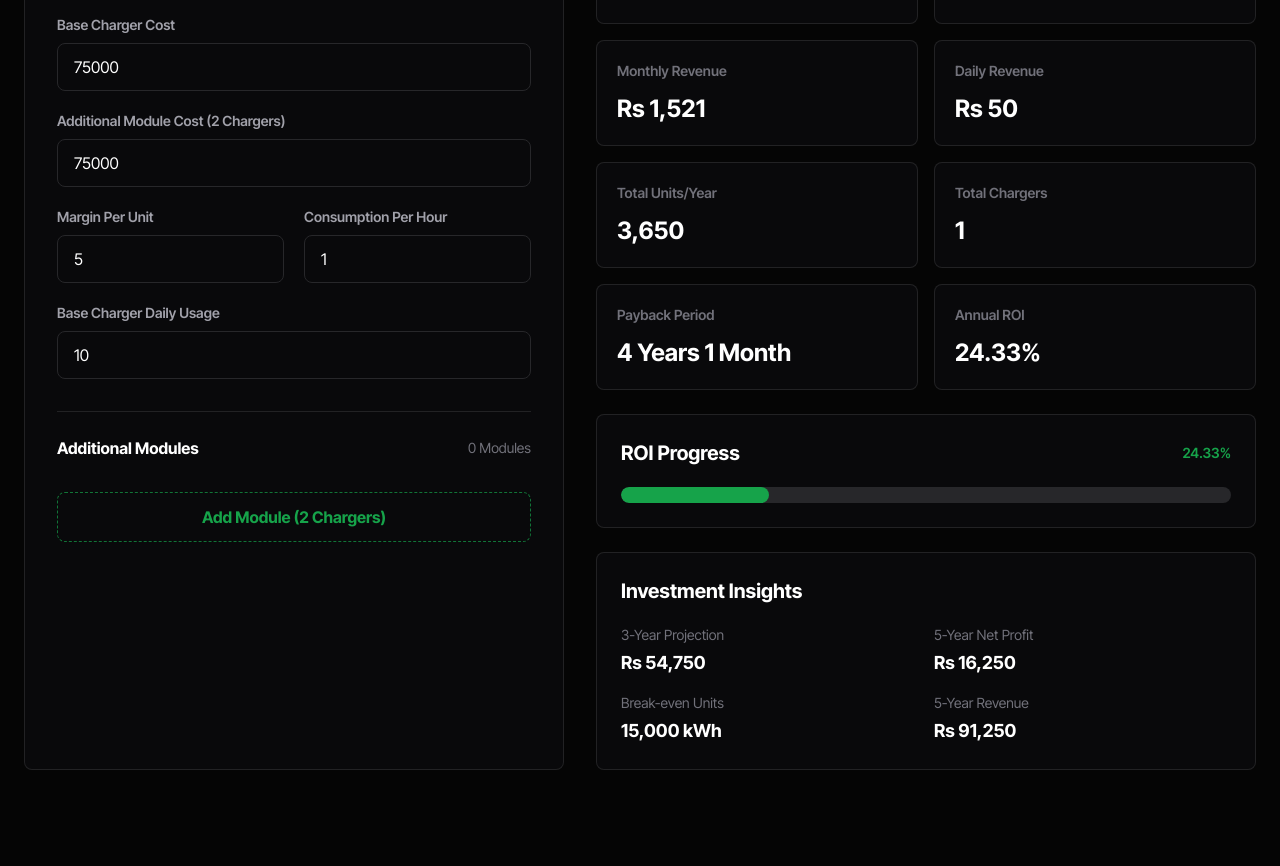
Scenario: RoiCalculatorSection › adds and removes charger modules
(page scrolled)
Click the button "Add Module (2 Chargers)". click: (294, 517)
box: [57, 492, 531, 542]
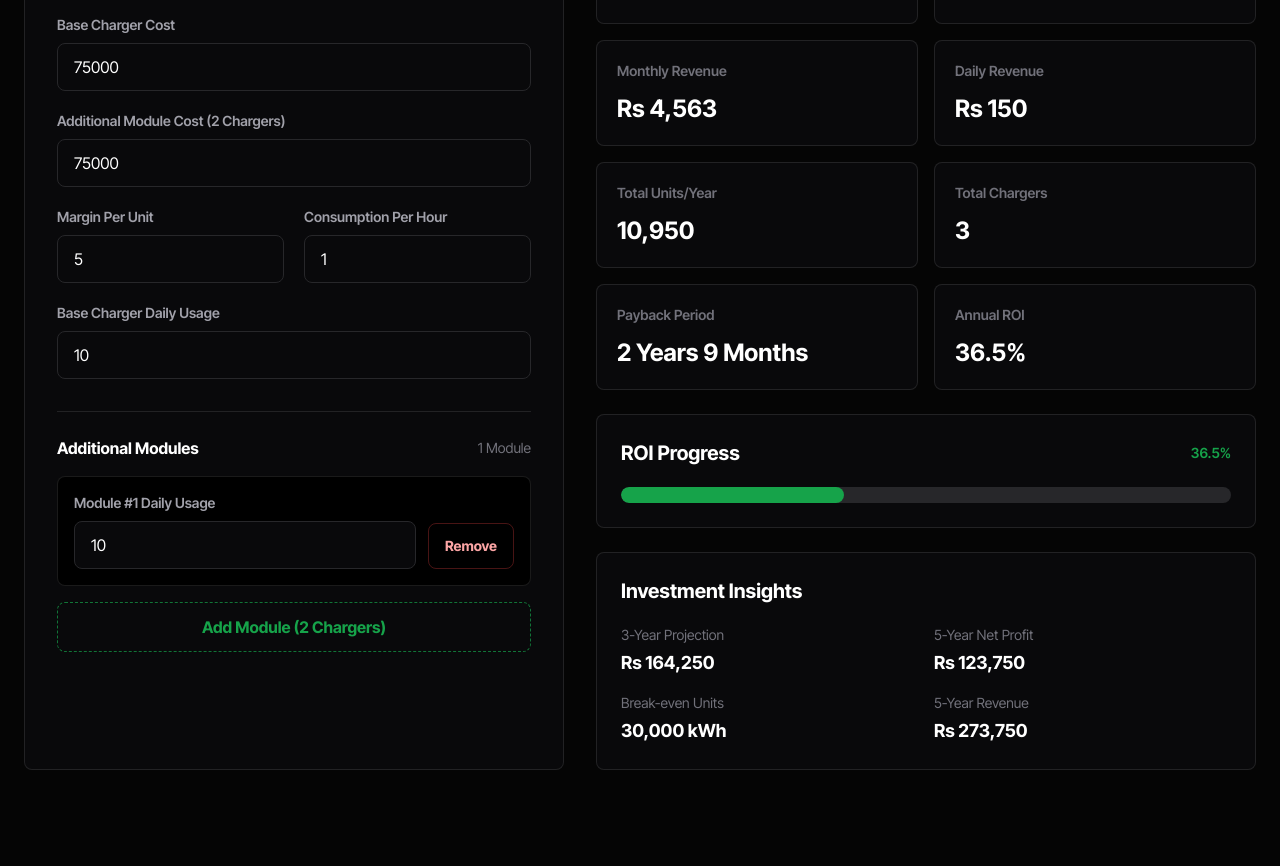
Expected: the text "3" is shown, [955, 216, 970, 245]
Now the text "Module #1 Daily Usage" is shown, box [74, 494, 215, 511]
Click the button "Remove". click: (471, 546)
box: [428, 523, 514, 569]
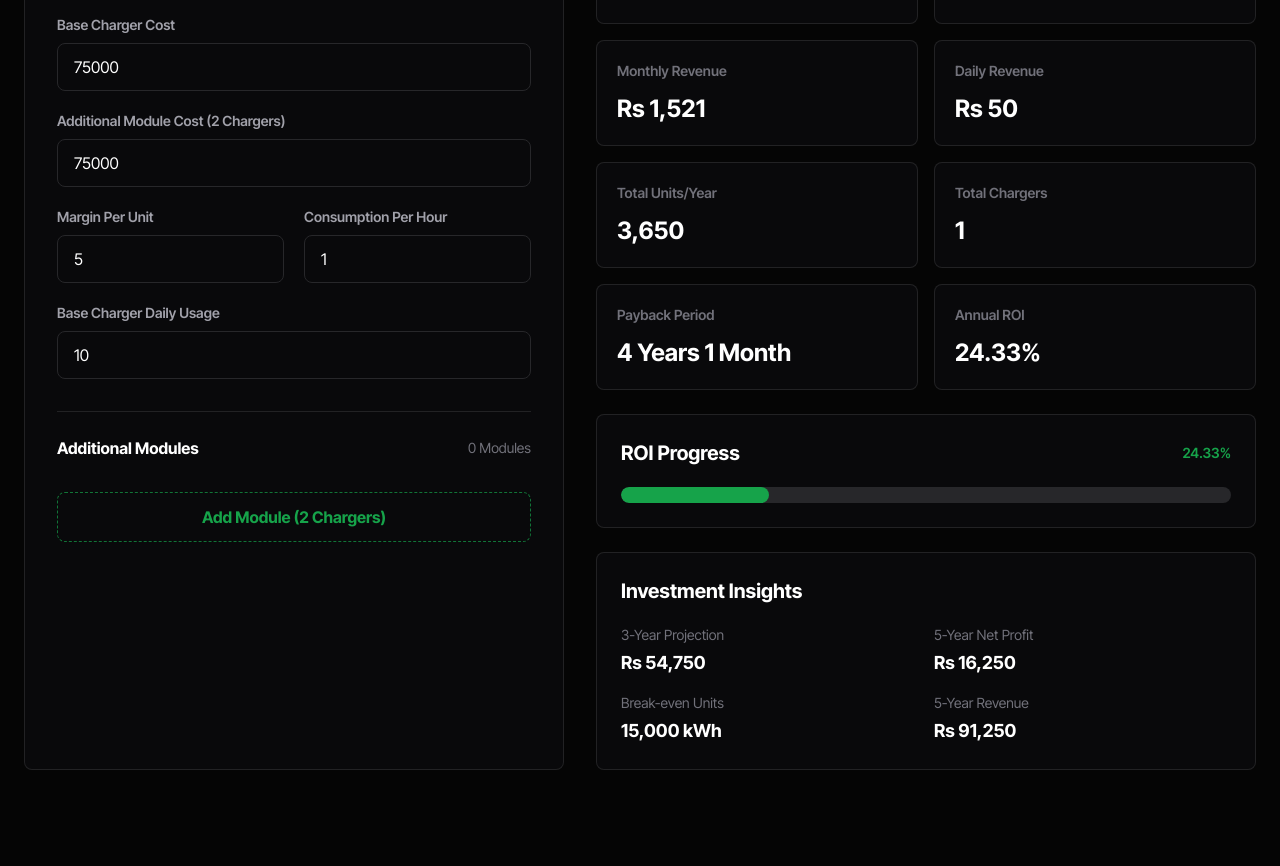
Now the text "Module #1" is gone
